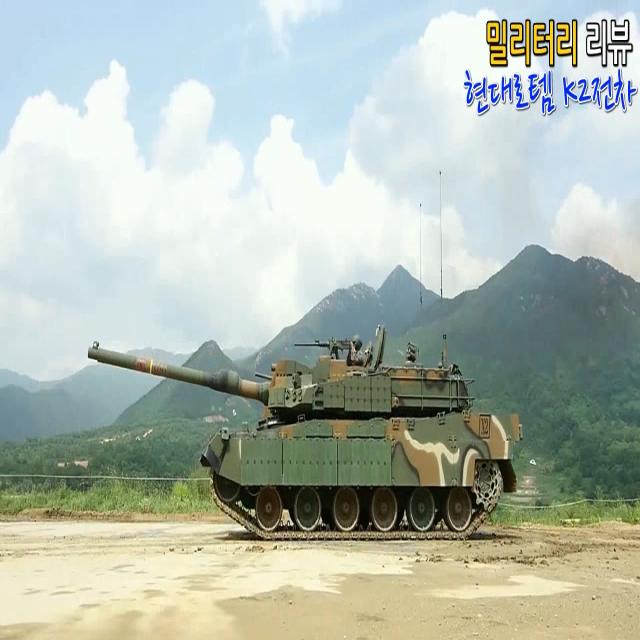korea tank: (85, 324, 523, 538)
